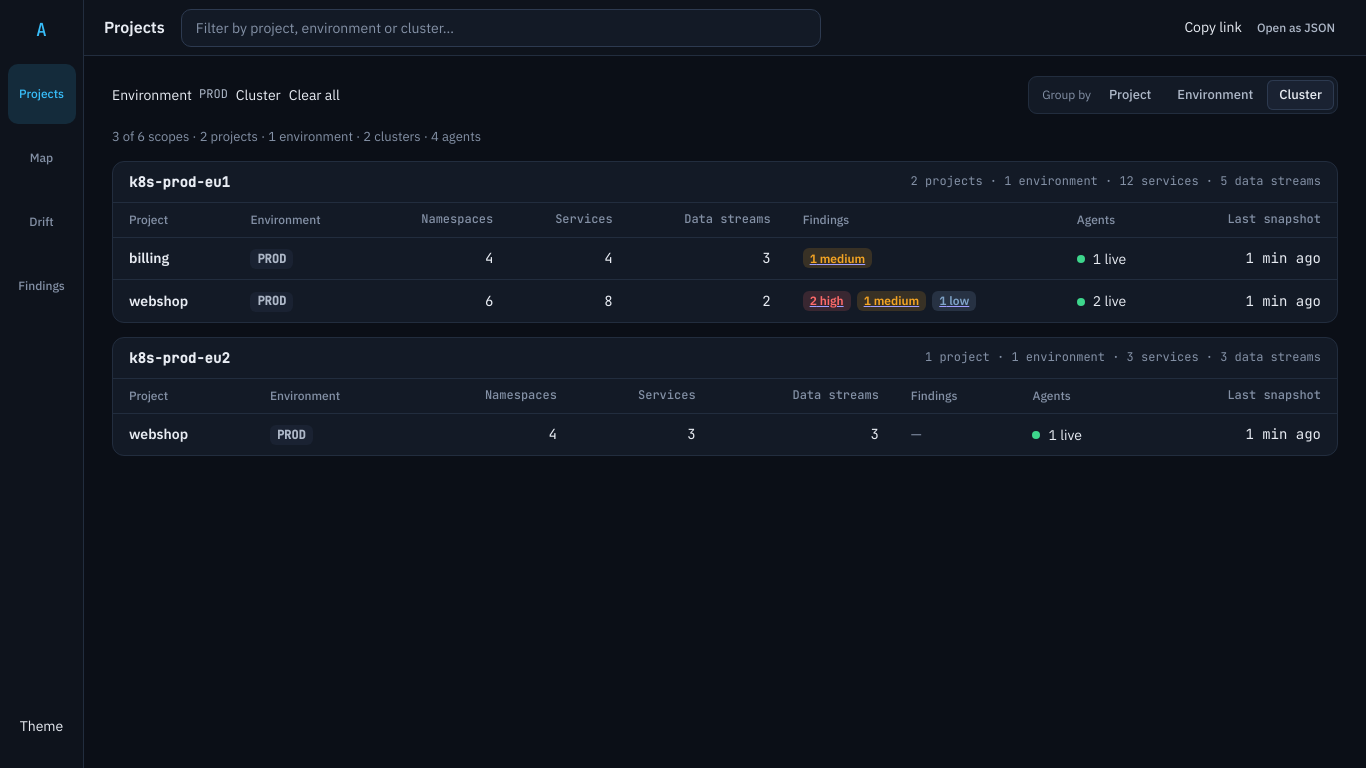
Test case: ProjectsPage › reads the filter from the URL and lets the chips change it
Expected: the element "k8s-prod-eu1" is shown, [112,161,1338,323]
Expected: the text "3 of 6 scopes · 2 projects · 1 environment · 2 clusters · 4 agents" is shown, [112,128,481,145]
Click the 1st button "Cluster" at (258, 95), box [236,80,281,110]
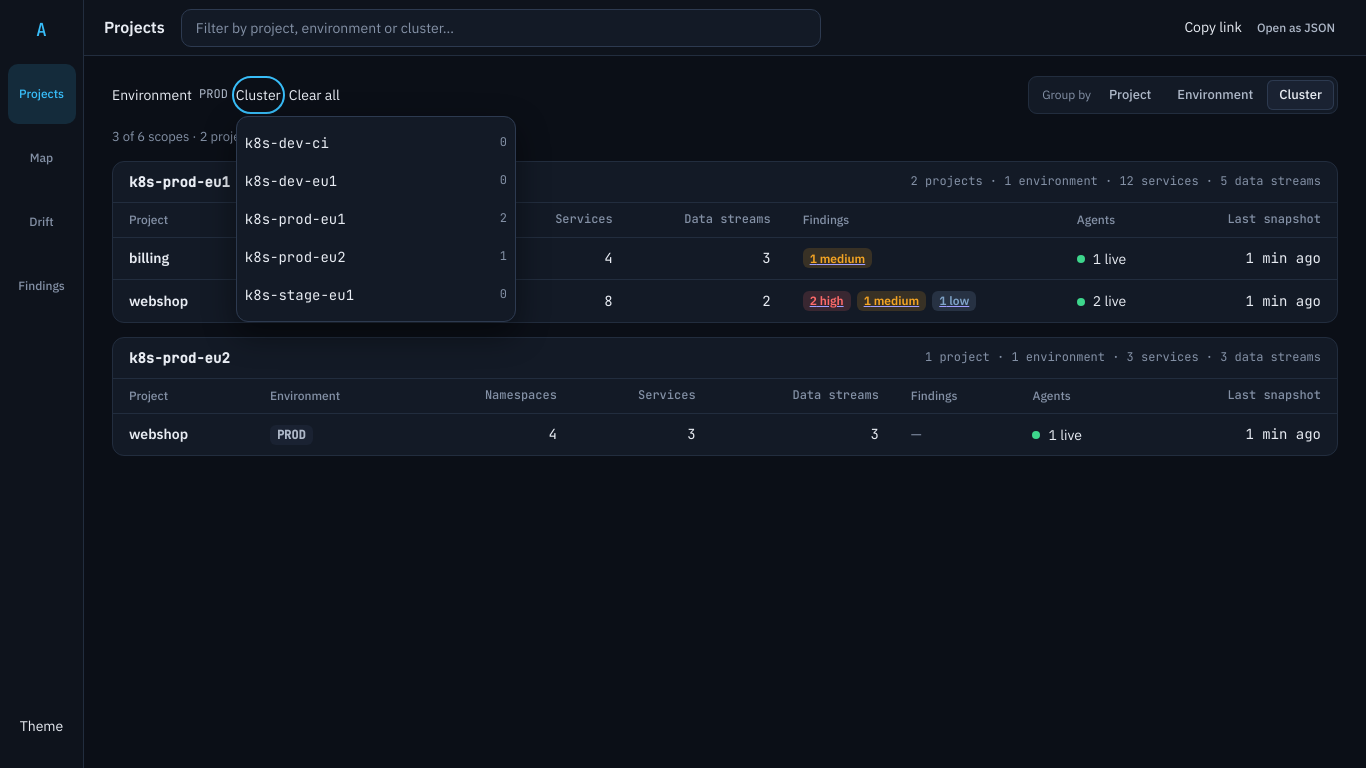
Click the button "k8s-prod-eu2 1" at (295, 257), box [245,239,507,275]
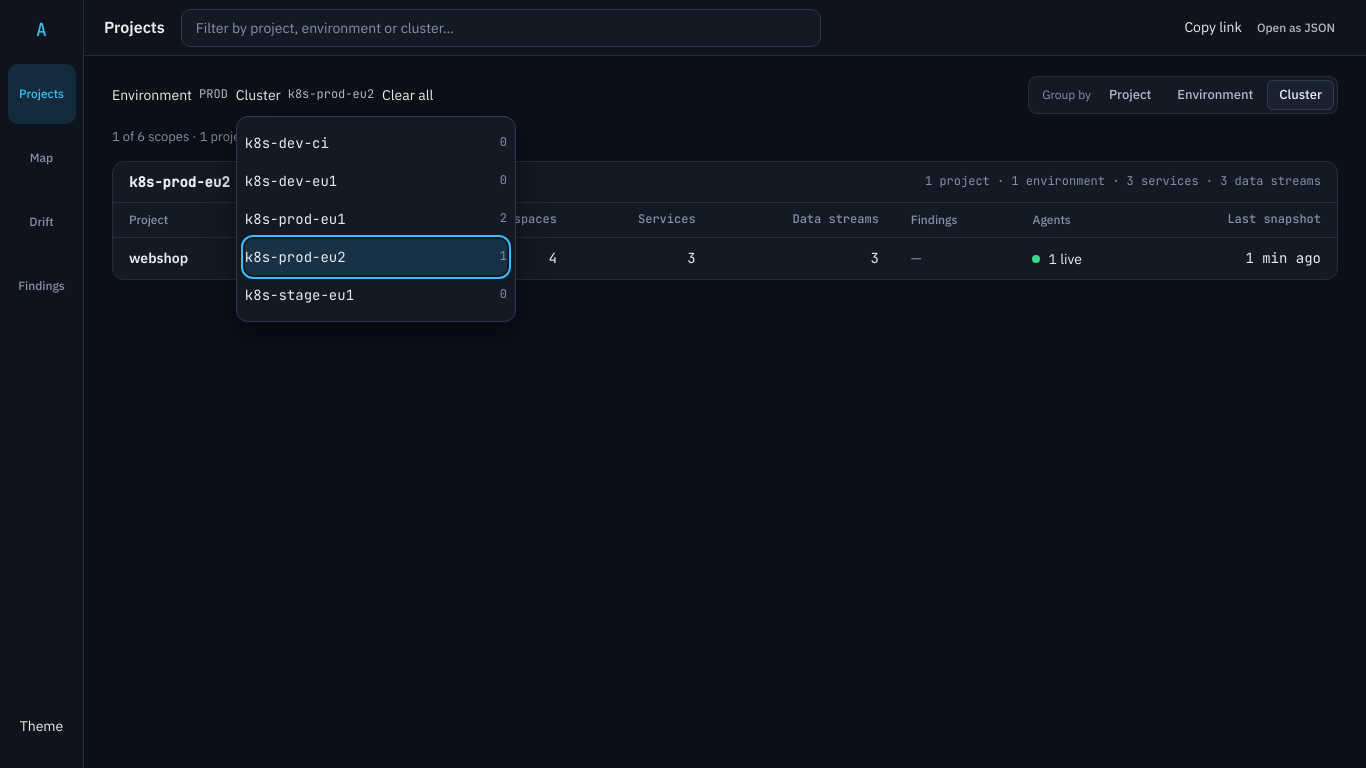
Now the text "1 of 6 scopes · 1 project · 1 environment · 1 cluster · 1 agent" is shown, box [112,128,462,145]
Press Escape
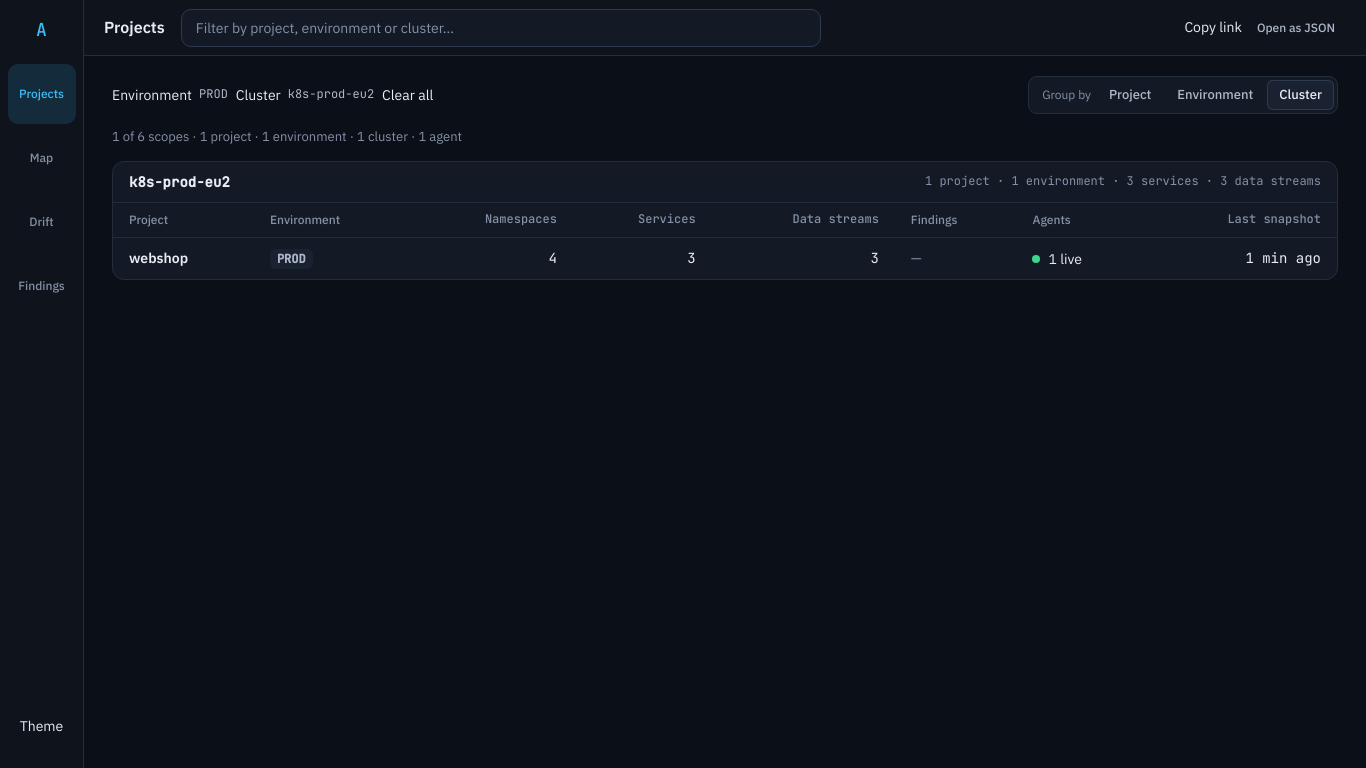
Expected: the element "Filter by cluster" is not shown
Click the button "Clear all" at (408, 95), box [382,81,433,109]
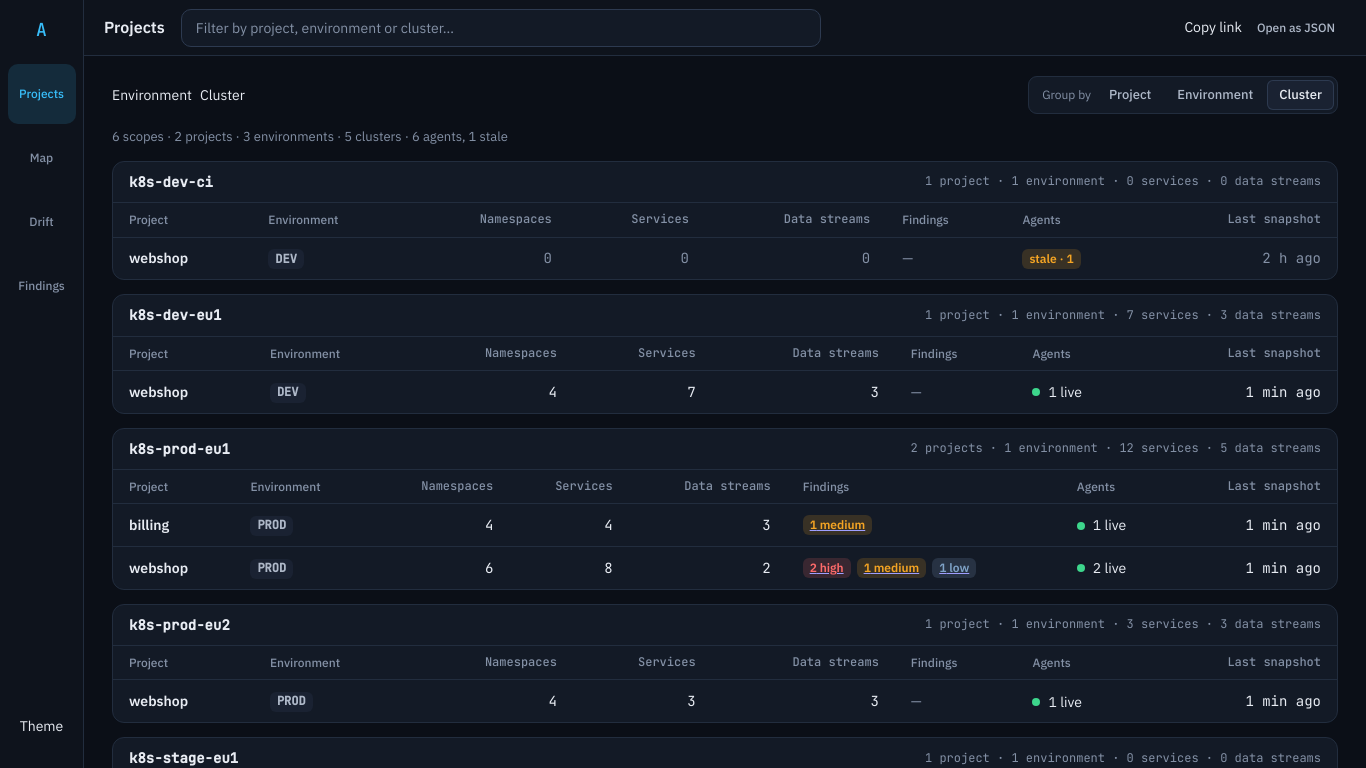
Now the text "6 scopes · 2 projects · 3 environments · 5 clusters · 6 agents, 1 stale" is shown, box [112,128,508,145]
